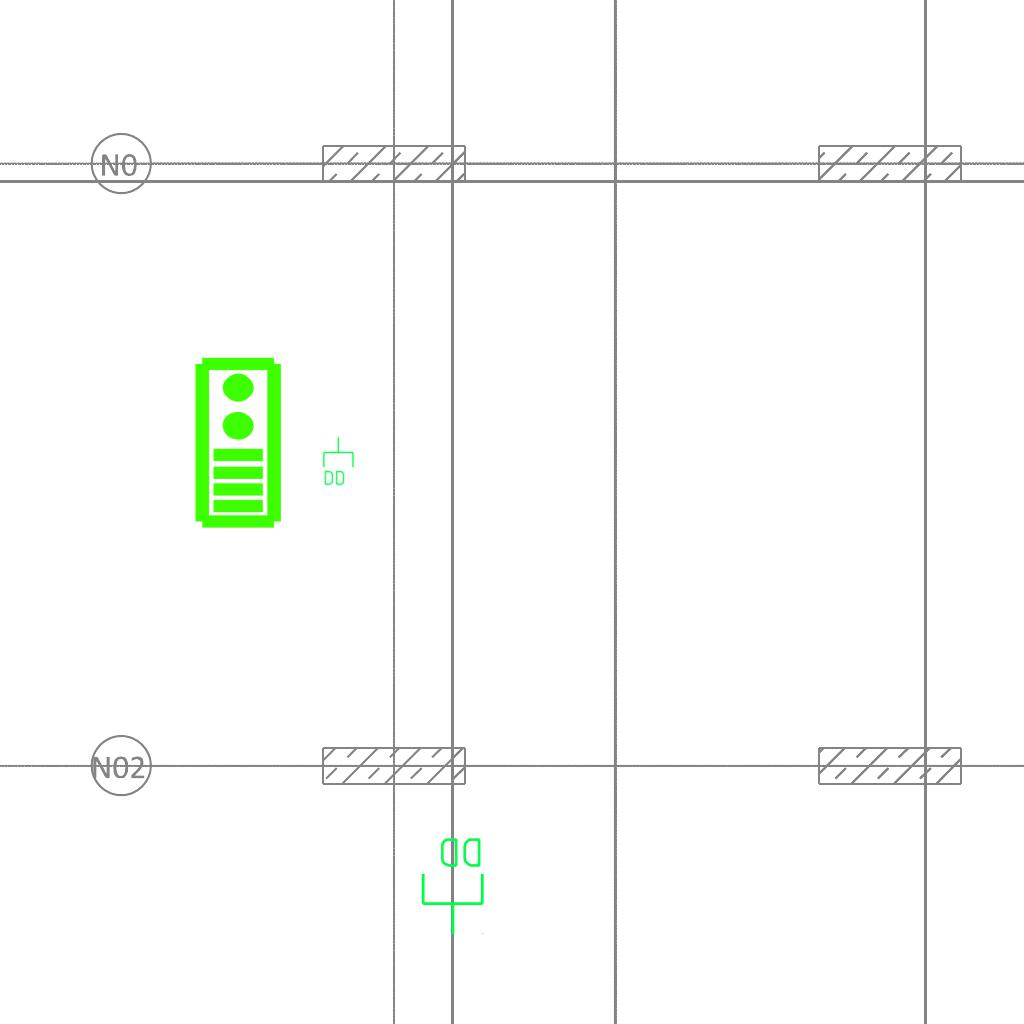Datenanschluss_zweifach: (419, 834, 488, 937), (321, 436, 355, 487)
Gegensprechanlage_mit_Video: (189, 354, 284, 530)
